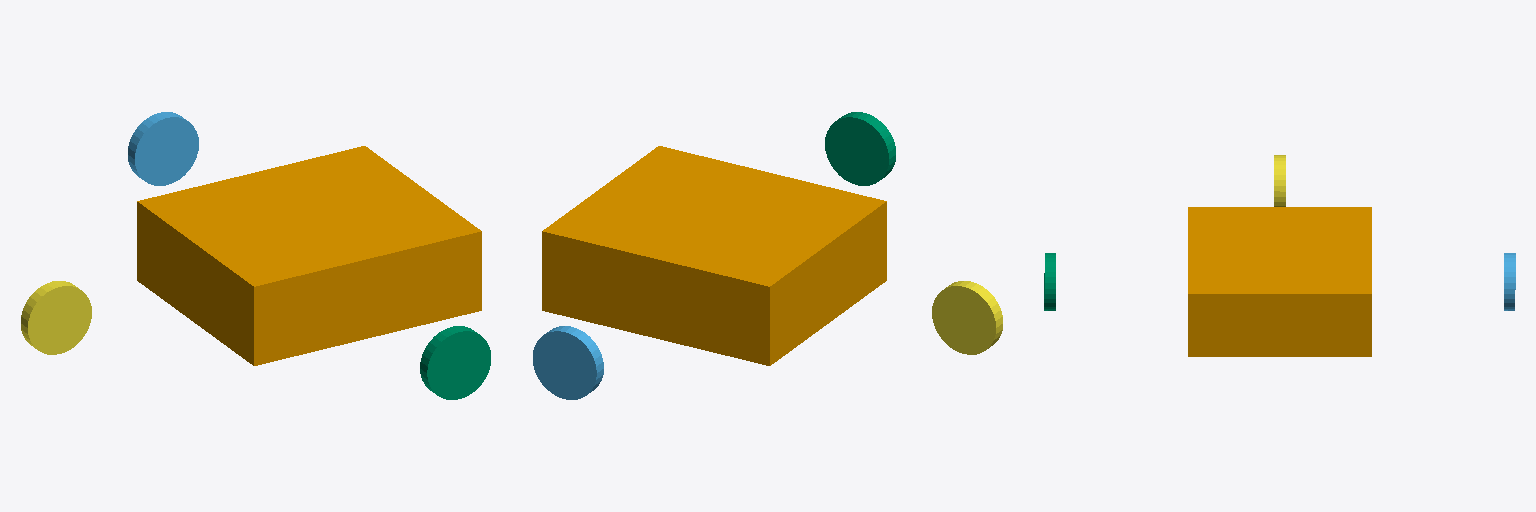
robot.urdf — simple_box:
<robot name="simple_box">
    <link name="base_link">
        <inertial>
            <origin xyz="0 0 0"/> 
            <mass value="1.0"/>
            <inertia ixx="1.0" ixy="0.0"   ixz="0.0"
                               iyy="100.0" iyz="0.0"
                                           izz="1.0" />
        </inertial>
        <visual>
            <origin xyz="0 0 0"/>
            <geometry>
                <box size="0.9 0.8 0.3"/>
            </geometry>
        </visual>
        <collision>
            <origin xyz="0 0 0"/>
            <geometry>
                <box size="0.9 0.8 0.3"/>
            </geometry>
        </collision>
    </link>
    <gazebo reference="base_link">
        <material>Gazebo/Blue</material>
    </gazebo>

    <joint name="wheel_left_joint" type="fixed">
        <parent link="base_link"/>
        <child link="wheel_left_link"/>
        <origin xyz="0 1 0" rpy="1.57 0 0"/>
    </joint>
    <link name="wheel_left_link">
        <inertial>
            <origin xyz="0 0 0"/> 
            <mass value="1.0"/>
            <inertia ixx="1.0" ixy="0.0"   ixz="0.0"
                               iyy="100.0" iyz="0.0"
                                           izz="1.0" />
        </inertial>
        <visual>
            <origin xyz="0 0 0"/>
            <geometry>
                <cylinder radius="0.127" length="0.05"/>
            </geometry>
        </visual>
        <collision>
            <origin xyz="0 0 0"/>
            <geometry>
                <cylinder radius="0.127" length="0.05"/>
            </geometry>
        </collision>
    </link>

    <joint name="wheel_right_joint" type="fixed">
        <parent link="base_link"/>
        <child link="wheel_right_link"/>
        <origin xyz="0 -1 0" rpy="1.57 0 0"/>
    </joint>
    <link name="wheel_right_link">
        <inertial>
            <origin xyz="0 0 0"/> 
            <mass value="1.0"/>
            <inertia ixx="1.0" ixy="0.0"   ixz="0.0"
                               iyy="100.0" iyz="0.0"
                                           izz="1.0" />
        </inertial>
        <visual>
            <origin xyz="0 0 0"/>
            <geometry>
                <cylinder radius="0.127" length="0.05"/>
            </geometry>
        </visual>
        <collision>
            <origin xyz="0 0 0"/>
            <geometry>
                <cylinder radius="0.127" length="0.05"/>
            </geometry>
        </collision>
    </link>

    <joint name="caster_joint" type="fixed">
        <parent link="base_link"/>
        <child link="caster_link"/>
        <origin xyz="-1 0 0" rpy="1.57 0 0"/>
    </joint>
    <link name="caster_link">
        <inertial>
            <origin xyz="0 0 0"/> 
            <mass value="1.0"/>
            <inertia ixx="1.0" ixy="0.0"   ixz="0.0"
                               iyy="100.0" iyz="0.0"
                                           izz="1.0" />
        </inertial>
        <visual>
            <origin xyz="0 0 0"/>
            <geometry>
                <cylinder radius="0.127" length="0.05"/>
            </geometry>
        </visual>
        <collision>
            <origin xyz="0 0 0"/>
            <geometry>
                <cylinder radius="0.127" length="0.05"/>
            </geometry>
        </collision>
    </link>

</robot>

--- Render facts (derived) ---
Views: 3 orthographic renders of the robot side by side, from view 1: azimuth 30°, elevation 25°; view 2: azimuth 150°, elevation 25°; view 3: azimuth 270°, elevation 25°.
Robot: simple_box — 4 links, 3 joints (3 fixed); root link base_link; default pose: all joints at 0.
Links seen in each view (by area): view 1: base_link, wheel_left_link, caster_link, wheel_right_link; view 2: base_link, wheel_right_link, wheel_left_link, caster_link; view 3: base_link, wheel_right_link, wheel_left_link, caster_link.
Boxes of the visible links, box(x1,y1,x2,y2) form: base_link: box(137, 146, 481, 365); wheel_left_link: box(128, 112, 198, 185); caster_link: box(21, 281, 91, 354); wheel_right_link: box(420, 326, 490, 399); base_link: box(542, 146, 886, 365); wheel_right_link: box(825, 112, 895, 185); wheel_left_link: box(533, 326, 603, 399); caster_link: box(932, 281, 1002, 354); base_link: box(1188, 207, 1371, 356); wheel_right_link: box(1044, 253, 1055, 310); wheel_left_link: box(1504, 253, 1515, 310); caster_link: box(1274, 155, 1285, 206).
Size in the robot's own frame: 1.58 by 2.05 by 0.3 metres.
Geometry: primitives only (box / cylinder / sphere), no mesh files.